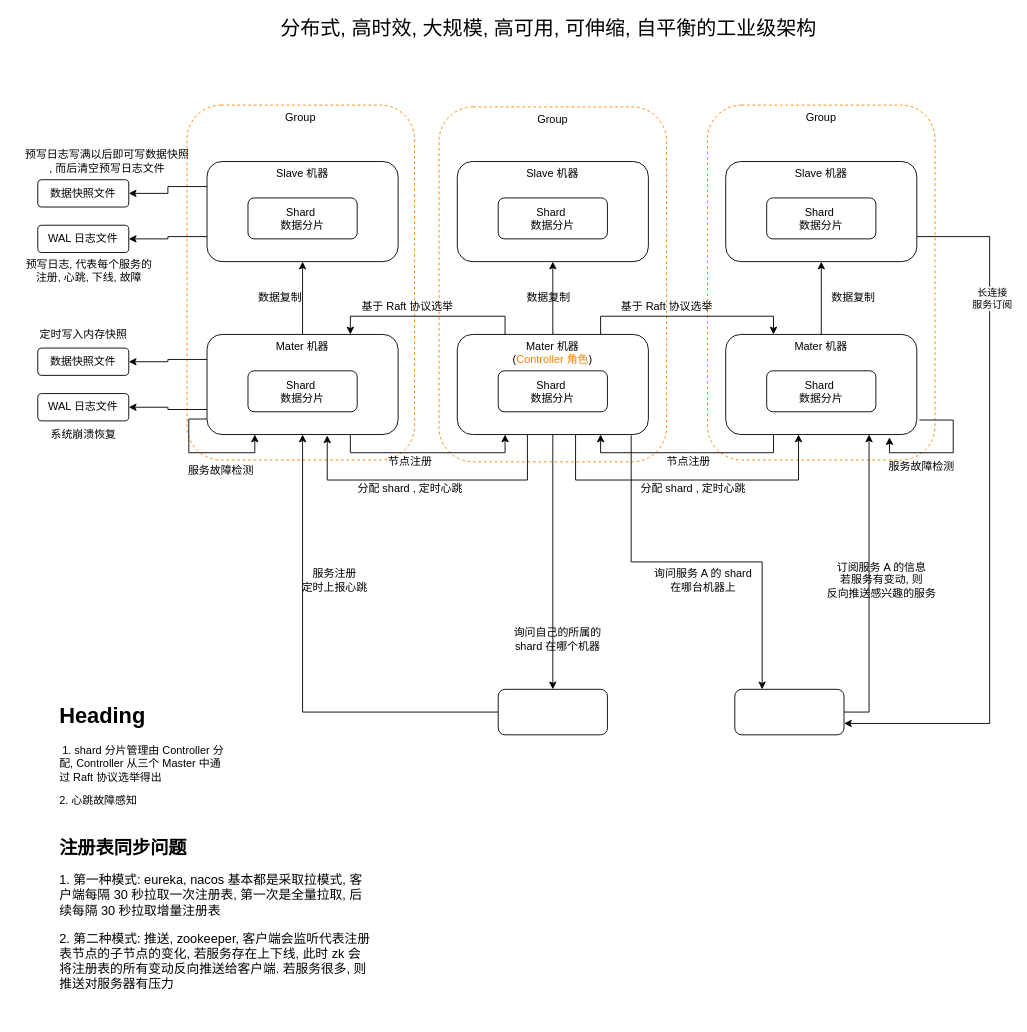
The diagram is 1027 pixels wide and 1032 high, and some of its shapes have lost their labels. The centre of each missing label's shape, as x and y in pixels:
"服务实例 A" goes at [552,711].
"服务实例 B" goes at [789,711].
